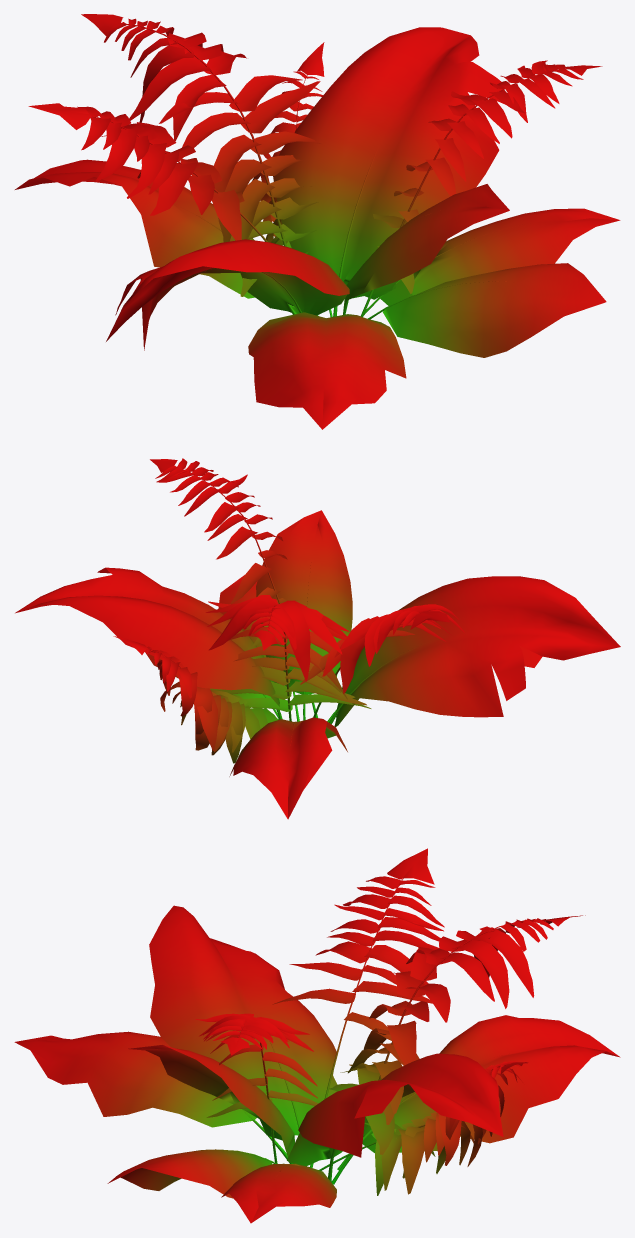
File: Var1_LOD0.fbx
3 views of the same model, one above another, from view 1: azimuth 30°, elevation 25°; view 2: azimuth 150°, elevation 25°; view 3: azimuth 270°, elevation 25° (orthographic). The views are drawn at different scales.
Parts seen in each view (by area): view 1: _lybs_Var1_LOD0; view 2: _lybs_Var1_LOD0; view 3: _lybs_Var1_LOD0.
Part boxes in pixels (box(x1,y1,x2,y2)): _lybs_Var1_LOD0: box(15, 14, 620, 429); _lybs_Var1_LOD0: box(15, 458, 620, 819); _lybs_Var1_LOD0: box(14, 848, 620, 1223).
Bounding box in the file's own units: 49.17 × 21.66 × 50.05.
